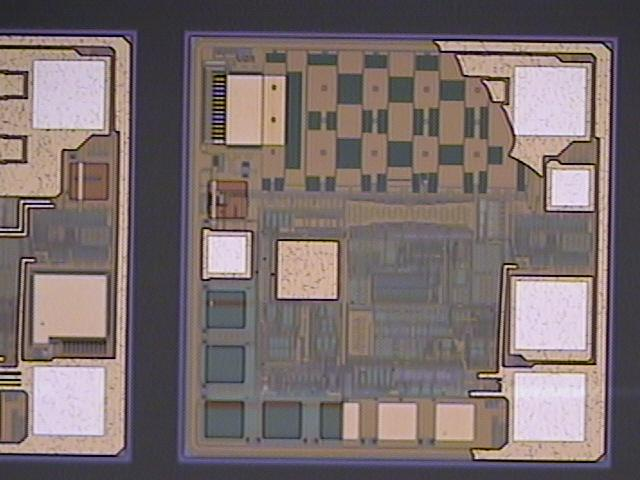COATING BAD: (183, 35, 598, 467)
